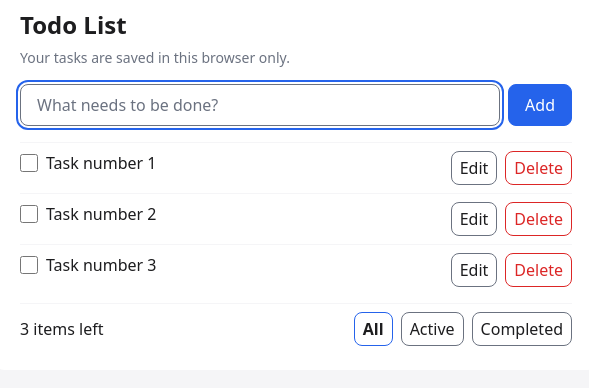
Test case: App: edit a task › opens the field with the saved title selected and focused (AC4.1.1)
Click the button with test id "edit-button" in the row of "Task number 2": (474, 219) [451,202,497,236]
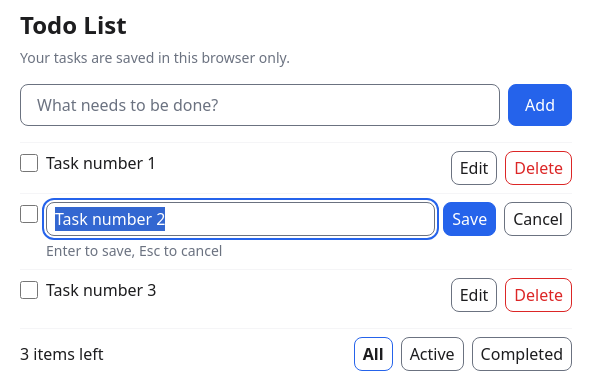
Expected: the field with test id "task-edit-input" holds "Task number 2", [46,202,435,236]
Expected: the number of forms with test id "task-edit-form" is 1, [46,202,572,261]
